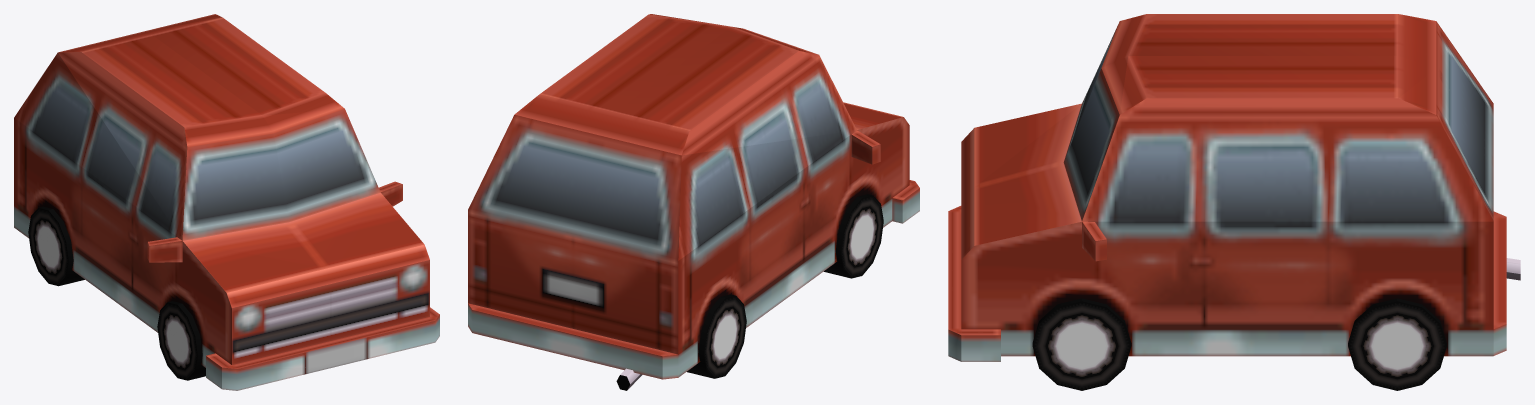
File: car.obj
The picture shows the model from 3 angles, left to right: view 1: azimuth 30°, elevation 25°; view 2: azimuth 150°, elevation 25°; view 3: azimuth 270°, elevation 25°; orthographic projection. The views are drawn at different scales.
Parts seen in each view (by area): view 1: g0; view 2: g0; view 3: g0.
Part boxes in pixels (left/top/right/bottom): g0: left=14, top=14, right=439, bottom=390; g0: left=468, top=14, right=919, bottom=390; g0: left=948, top=14, right=1520, bottom=390.
Size of the model in its own units: 1.95 by 1.64 by 3.12.
1 material, 1 textured.
